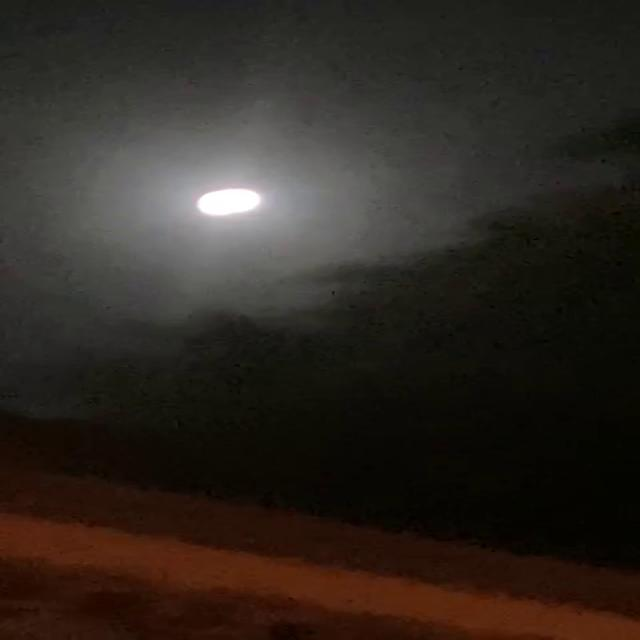moon: (192, 194, 275, 232)
